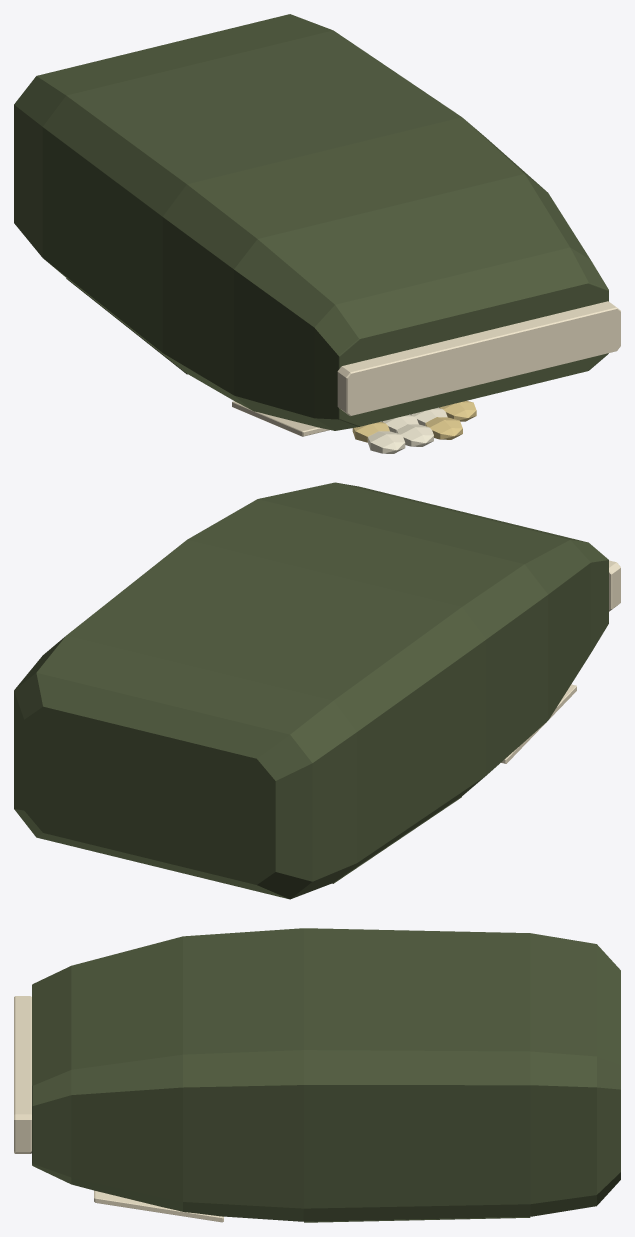
The model's file is popcorn.glb.
3 views of the same model, one above another, from view 1: azimuth 30°, elevation 25°; view 2: azimuth 150°, elevation 25°; view 3: azimuth 270°, elevation 25° (orthographic). The views are drawn at different scales.
Parts seen in each view (by area): view 1: popcorn; view 2: popcorn; view 3: popcorn.
Part boxes in pixels (bbox=[...]): popcorn: bbox=[14, 14, 620, 453]; popcorn: bbox=[14, 482, 620, 899]; popcorn: bbox=[14, 928, 620, 1222].
Size of the model in its own units: 0.1236 by 0.0776 by 0.2211.
